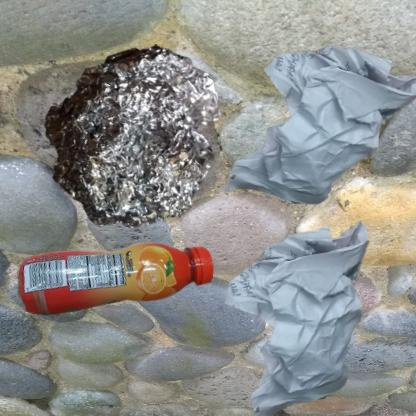aluminio: (10, 10, 282, 293)
botella: (10, 213, 239, 358)
papel: (213, 10, 416, 278), (213, 213, 406, 416)
